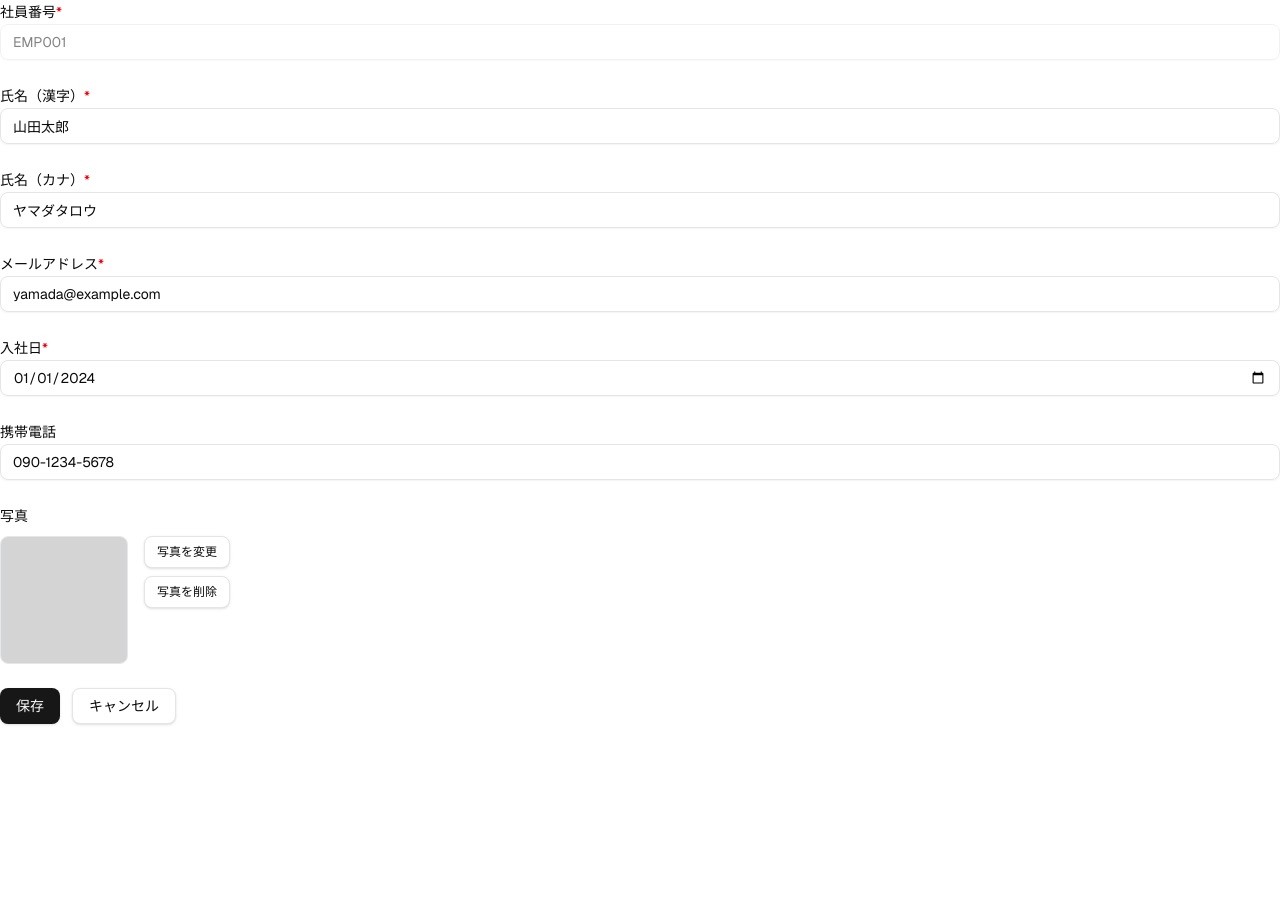
EmployeeForm › 写真アップロードUI (Task 5.1) › 写真削除機能 › 削除確認後、プレビューがクリアされる
The image size is (1280, 900).
Step 1. Click the button "写真を削除" → (187, 592), box [144,576,230,608]
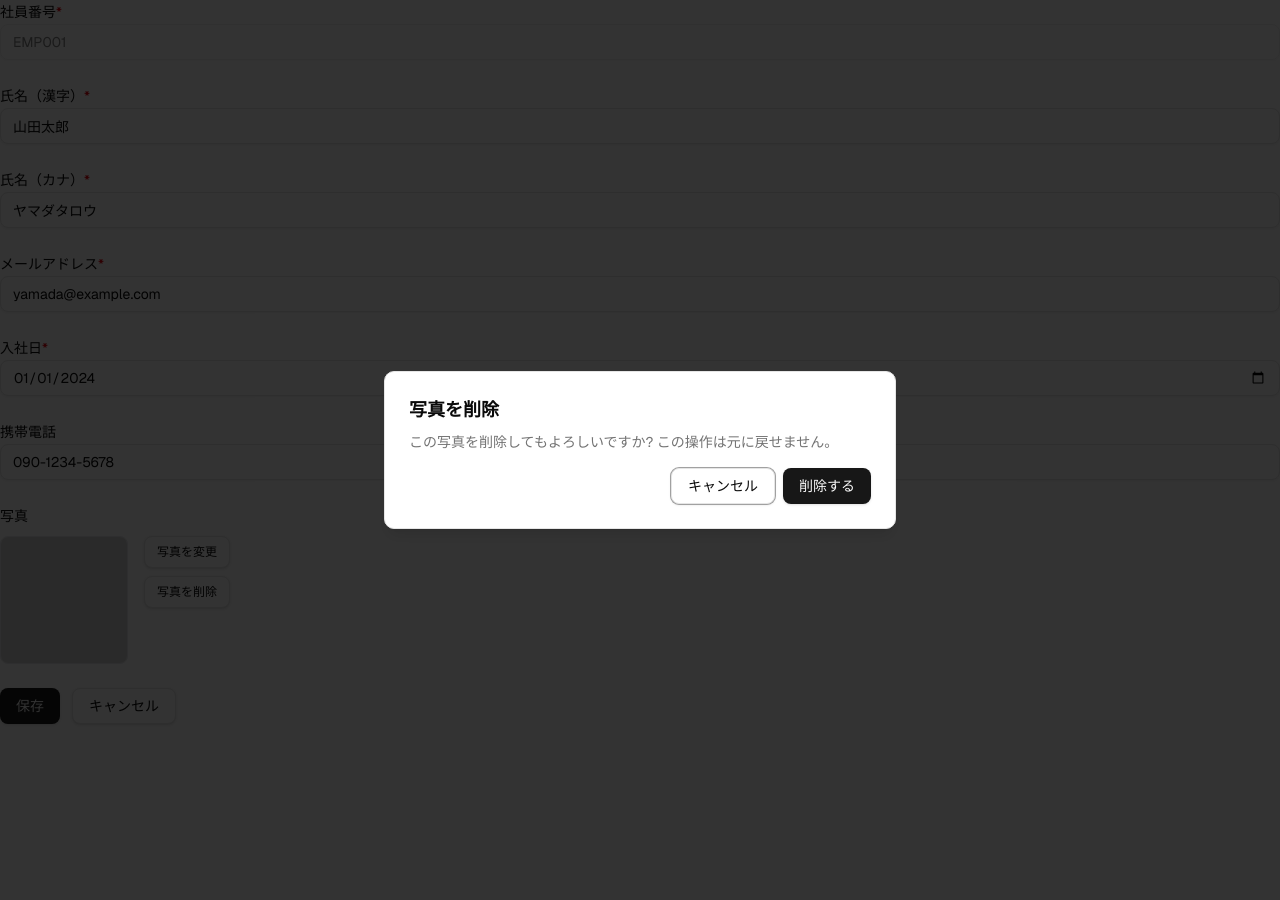
Step 2. Click the button "削除する" → (827, 486), box [783,468,871,504]
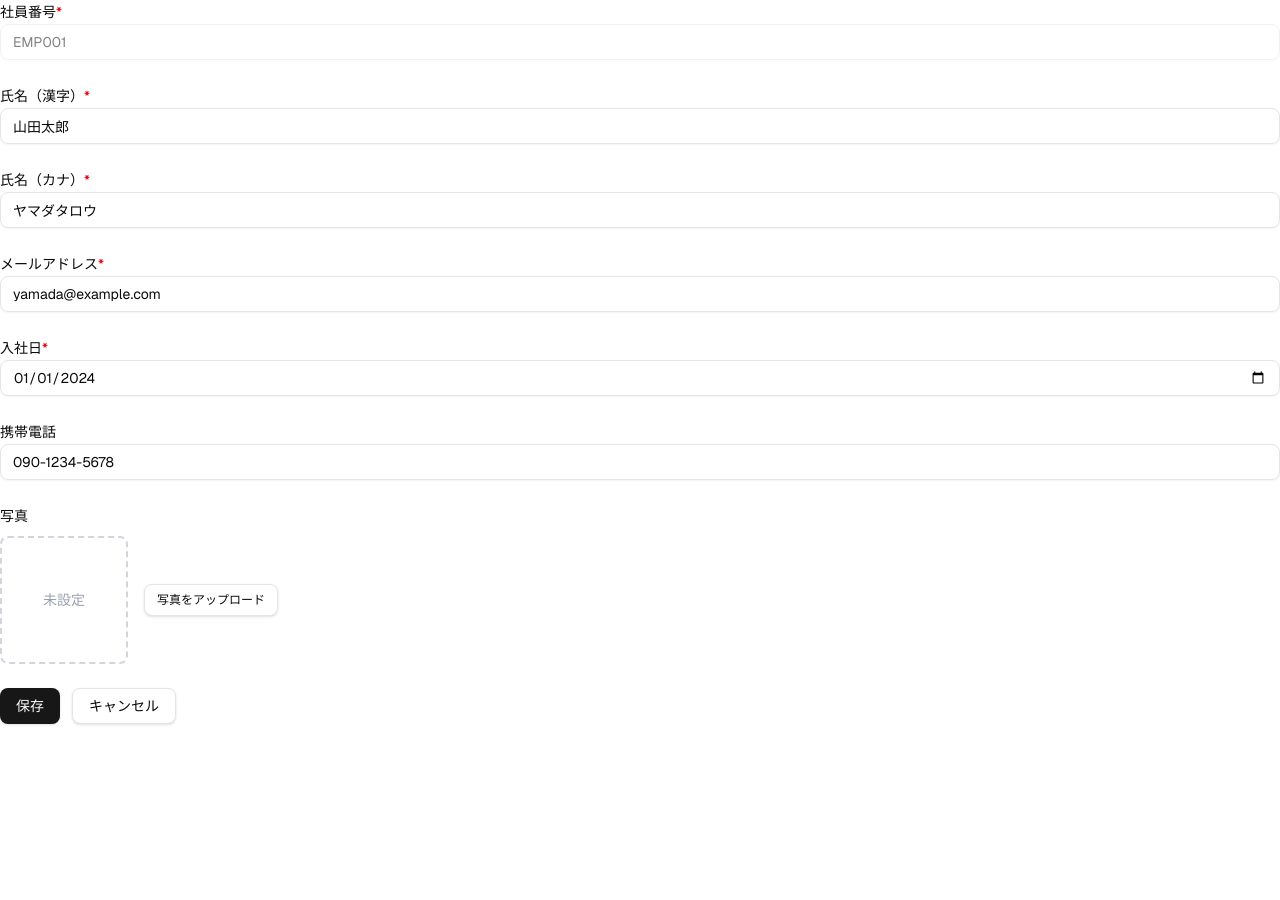
Check: the button "写真をアップロード" is shown, box [144,584,278,616]
